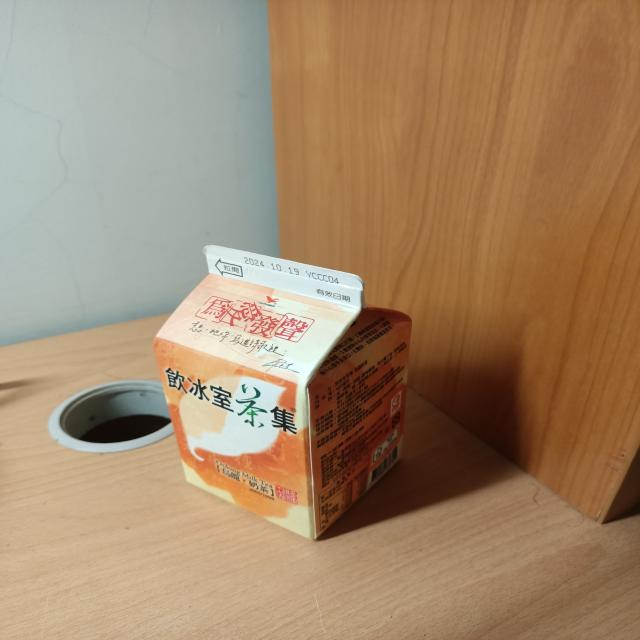YinBinShi_WuLongMilkTea: (147, 242, 420, 553)
